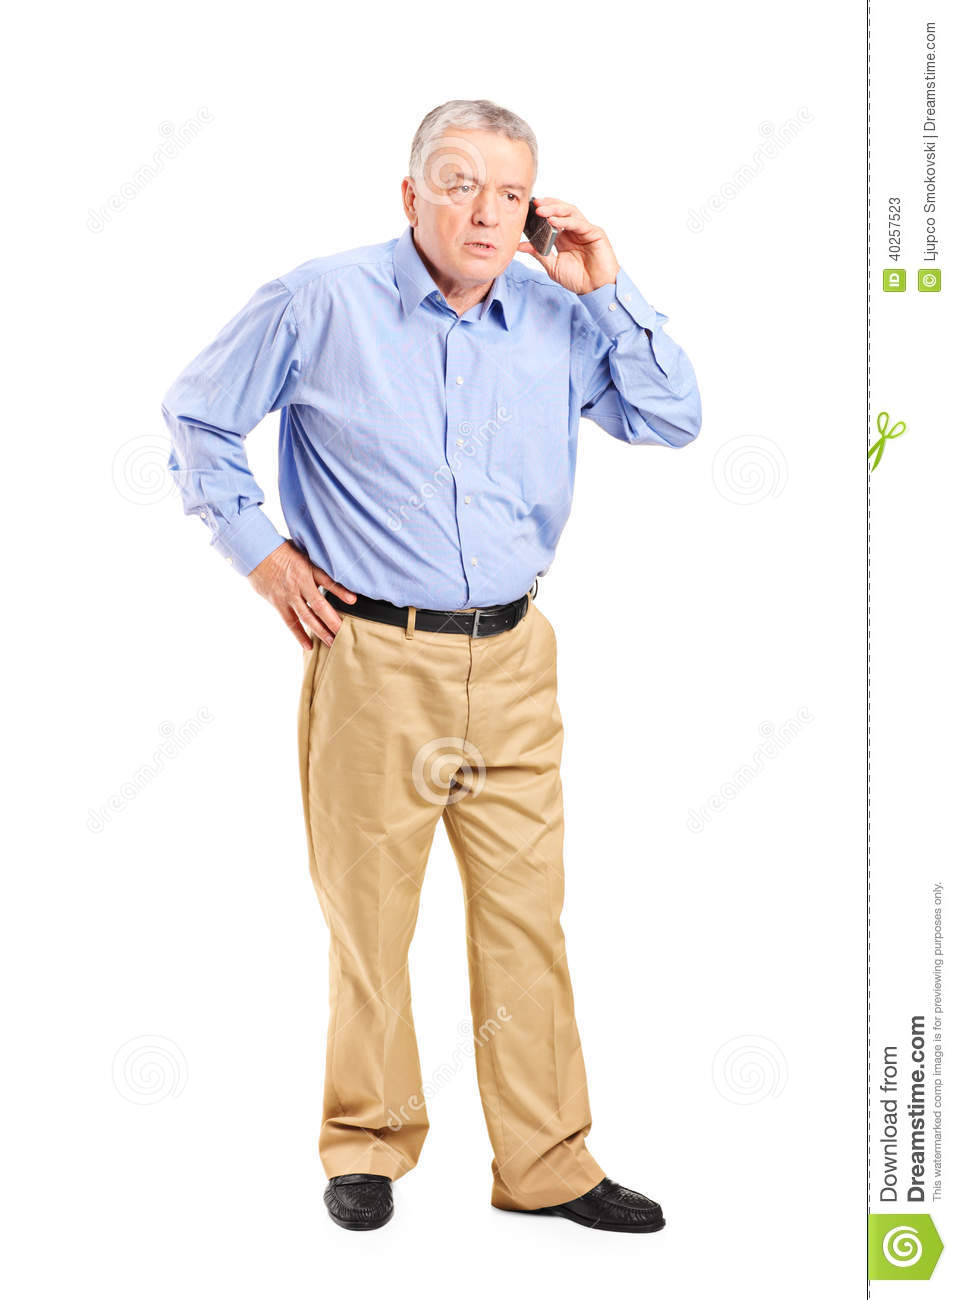phone: (523, 196, 559, 261)
talk: (432, 167, 616, 298)
